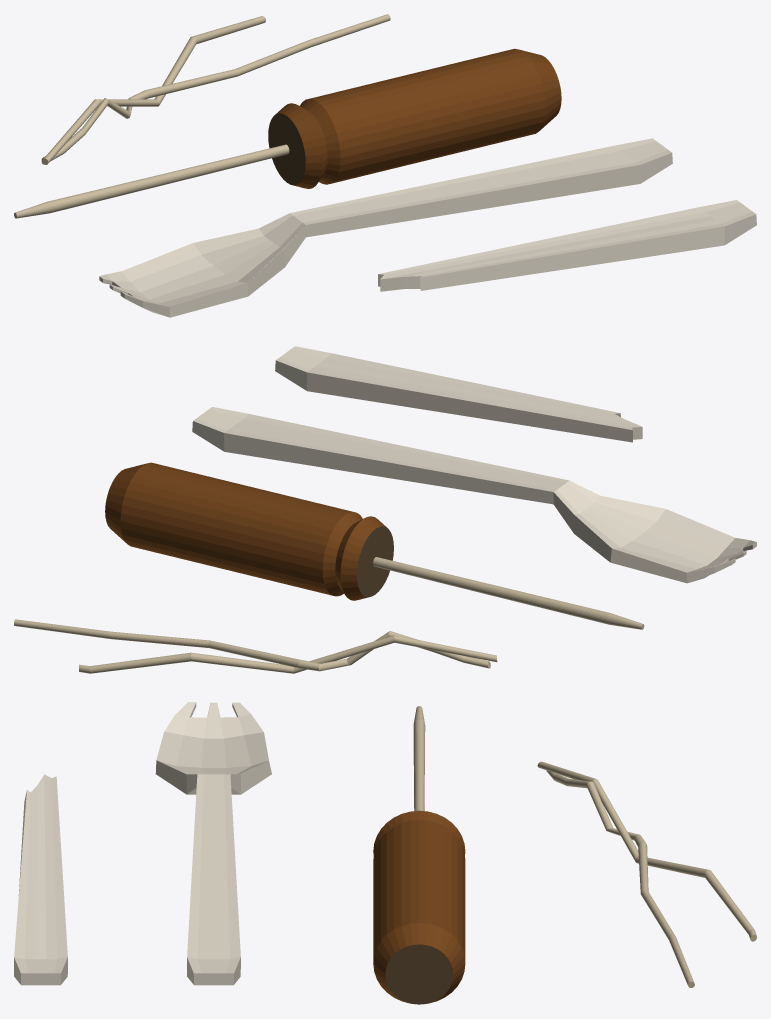
The model's file is ground_items.fbx.
3 renders of one model, top to bottom at view 1: azimuth 30°, elevation 25°; view 2: azimuth 150°, elevation 25°; view 3: azimuth 270°, elevation 25°, orthographic. The views are drawn at different scales.
Parts seen in each view (by area): view 1: screwdriver, spork, broken, metal wires, metal wires.001; view 2: screwdriver, spork, broken, metal wires, metal wires.001; view 3: screwdriver, spork, broken, metal wires.001, metal wires.
Part boxes in pixels (left/top/right/bottom): screwdriver: left=14, top=48, right=561, bottom=218; spork: left=99, top=138, right=672, bottom=317; broken: left=378, top=200, right=756, bottom=291; metal wires: left=41, top=14, right=390, bottom=164; metal wires.001: left=42, top=16, right=265, bottom=164; screwdriver: left=105, top=462, right=644, bottom=629; spork: left=192, top=407, right=756, bottom=583; broken: left=275, top=346, right=642, bottom=442; metal wires: left=14, top=619, right=490, bottom=671; metal wires.001: left=79, top=635, right=497, bottom=673; screwdriver: left=373, top=706, right=465, bottom=1004; spork: left=155, top=702, right=271, bottom=985; broken: left=14, top=774, right=67, bottom=985; metal wires.001: left=537, top=761, right=756, bottom=941; metal wires: left=546, top=770, right=694, bottom=987.
Bounding box in the file's own units: 616 × 84.69 × 698.
